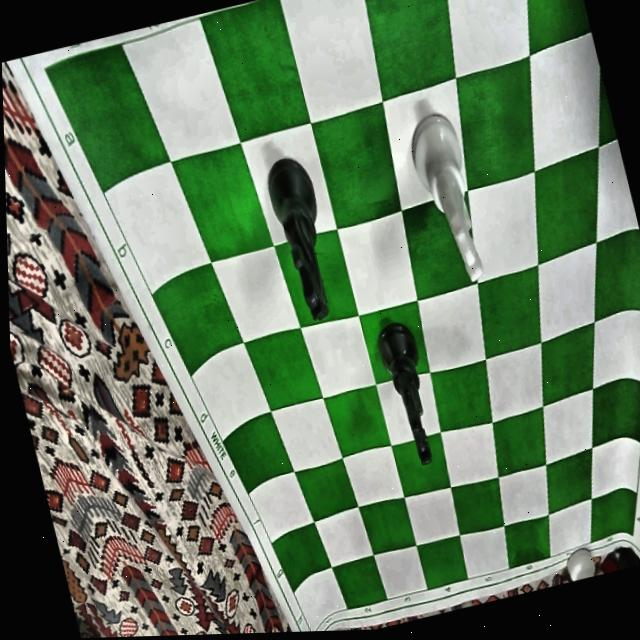BlackKnight: (260, 151, 344, 324), (371, 321, 446, 470)
WhiteKnight: (402, 109, 492, 291)
